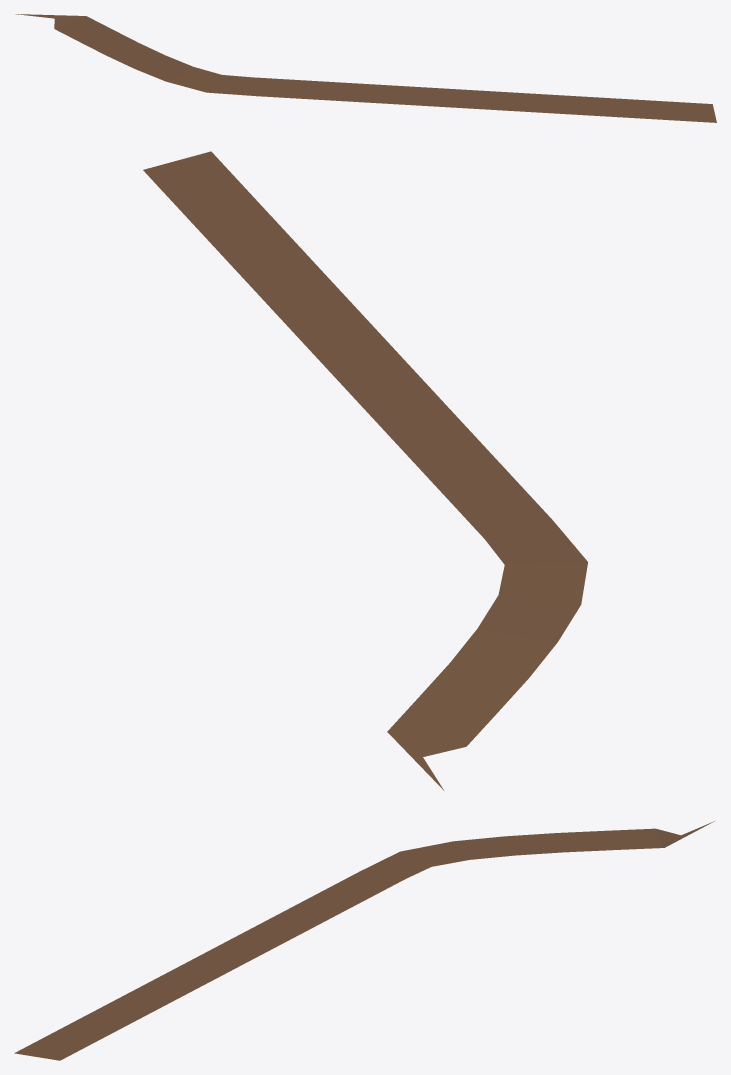
File: path.glb
3 views of the same model, one above another, from view 1: azimuth 30°, elevation 25°; view 2: azimuth 150°, elevation 25°; view 3: azimuth 270°, elevation 25° (orthographic). The views are drawn at different scales.
Parts seen in each view (by area): view 1: Path; view 2: Path; view 3: Path.
Boxes of the visible parts, x1,y1,x2,y2 form: Path: [15, 14, 716, 122]; Path: [143, 151, 587, 790]; Path: [14, 821, 714, 1060].
Size of the model in its own units: 23.25 by 0.3505 by 27.77.
